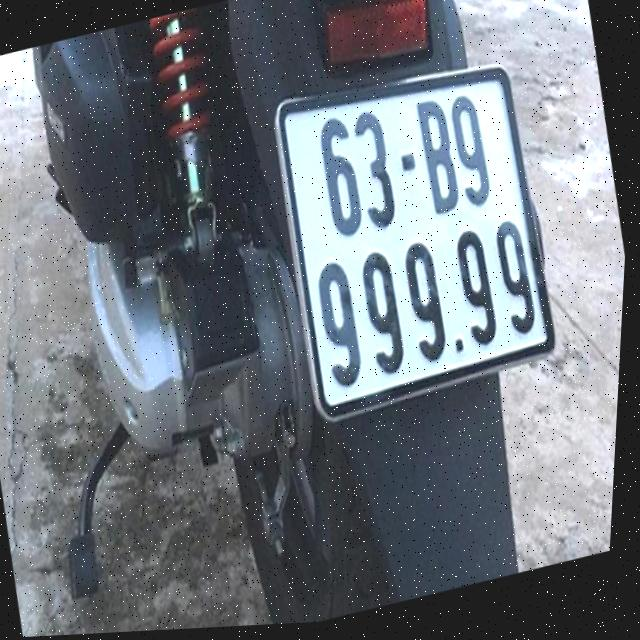motorcycle: (0, 0, 640, 640)
plate: (250, 35, 573, 428)
